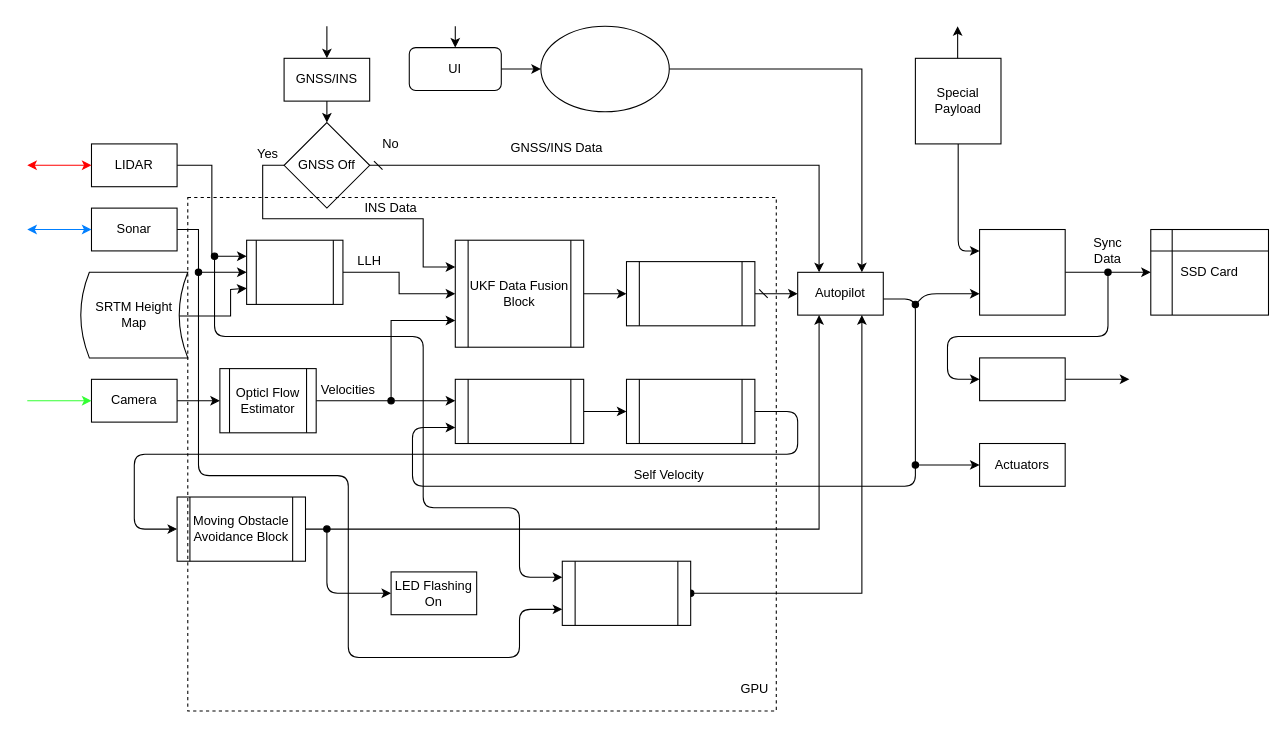
Some shapes in this 1287 by 730 pixel diagram are drawn without their labels. Each missing label, with the centre of its shape:
Autonomous Navigation Block: (x=690, y=293)
Moving Obstacle Detection and Its Trajectory Estimation Block: (x=690, y=411)
Optimal Rout Generated Before the Flight: (x=604, y=68)
Self Coordinate Estimator: (x=294, y=271)
Self Velocity Compensation Block: (x=519, y=411)
Stationary Obstacle Avoidance Block: (x=626, y=592)
Synchronizer/ Clock: (x=1022, y=271)
Telemetry: (x=1022, y=379)
